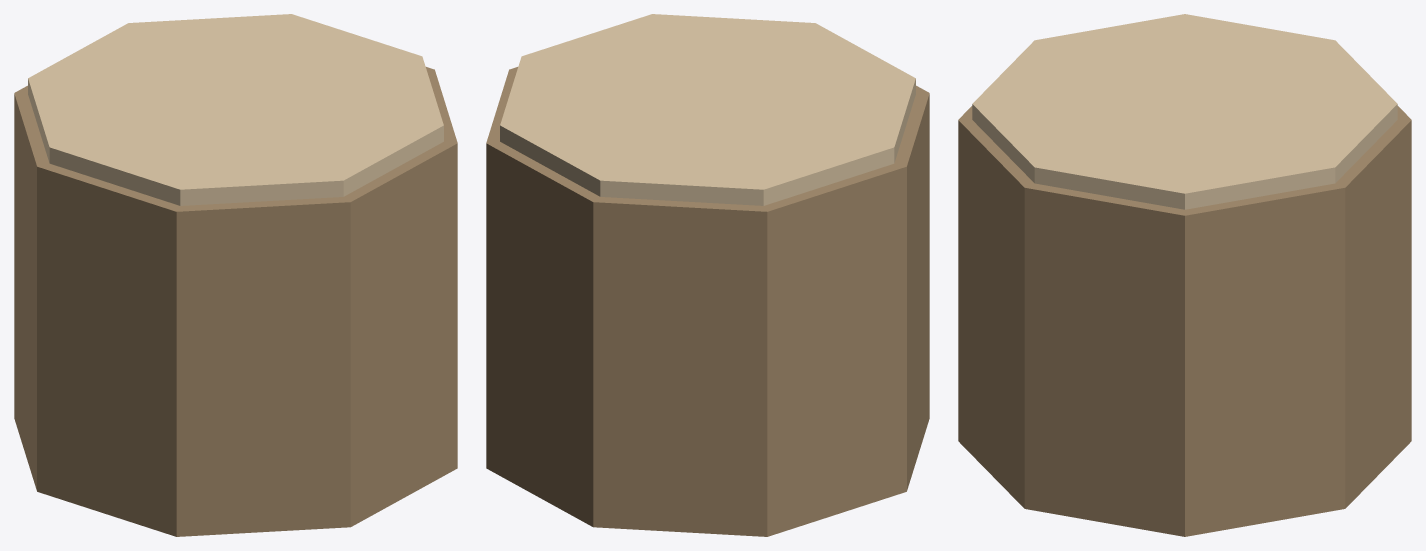
The model's file is stump.fbx.
3 views of the same model, side by side, from view 1: azimuth 30°, elevation 25°; view 2: azimuth 150°, elevation 25°; view 3: azimuth 270°, elevation 25° (orthographic).
Parts seen in each view (by area): view 1: Stump, CutTop; view 2: Stump, CutTop; view 3: Stump, CutTop.
Boxes of the visible parts, x1,y1,x2,y2 form: Stump: [14, 67, 457, 536]; CutTop: [28, 14, 443, 205]; Stump: [486, 67, 929, 536]; CutTop: [500, 14, 915, 205]; Stump: [958, 106, 1411, 536]; CutTop: [972, 14, 1397, 209].
Size of the model in its own units: 0.64 by 0.525 by 0.64.
